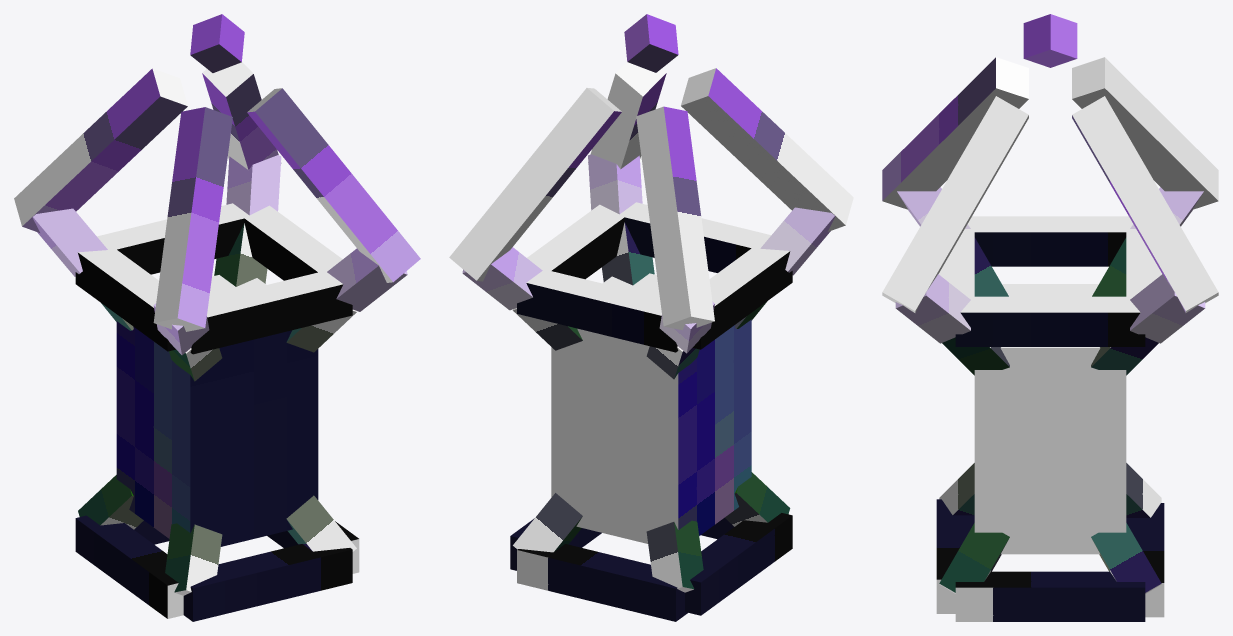
Rendered from conviction.obj.
3 renders of one model, left to right at view 1: azimuth 30°, elevation 25°; view 2: azimuth 150°, elevation 25°; view 3: azimuth 270°, elevation 25°, orthographic. The views are drawn at different scales.
Parts seen in each view (by area): view 1: center, tip4, tip2, tip3, stick3, stick2, stick8, stick6, stick5, tip1, stick1, slope6 (+11 smaller); view 2: center, tip2, tip4, tip1, stick4, stick1, stick8, stick6, stick5, tip3, stick2, slope8 (+11 smaller); view 3: center, tip3, tip1, stick7, stick5, tip4, tip2, stick6, angle1, angle3, core, slope7 (+13 smaller).
Boxes of the visible parts, x1=… form: center: x1=116, y1=275, x2=318, y2=546; tip4: x1=153, y1=107, x2=232, y2=331; tip2: x1=14, y1=68, x2=187, y2=232; tip3: x1=247, y1=88, x2=420, y2=282; stick3: x1=183, y1=544, x2=352, y2=621; stick2: x1=190, y1=272, x2=352, y2=354; stick8: x1=75, y1=515, x2=183, y2=618; stick6: x1=75, y1=247, x2=175, y2=351; stick5: x1=237, y1=205, x2=342, y2=280; tip1: x1=202, y1=62, x2=281, y2=169; stick1: x1=97, y1=203, x2=259, y2=274; slope6: x1=165, y1=523, x2=222, y2=595; center: x1=551, y1=273, x2=751, y2=543; tip2: x1=636, y1=106, x2=714, y2=330; tip4: x1=681, y1=68, x2=853, y2=231; tip1: x1=449, y1=88, x2=621, y2=281; stick4: x1=517, y1=544, x2=687, y2=621; stick1: x1=517, y1=271, x2=678, y2=352; stick8: x1=685, y1=513, x2=792, y2=615; stick6: x1=693, y1=248, x2=792, y2=349; stick5: x1=527, y1=204, x2=624, y2=279; tip3: x1=588, y1=62, x2=666, y2=169; stick2: x1=609, y1=202, x2=770, y2=272; slope8: x1=646, y1=520, x2=703, y2=592; center: x1=974, y1=284, x2=1126, y2=554; tip3: x1=882, y1=96, x2=1028, y2=312; tip1: x1=1072, y1=96, x2=1218, y2=312; stick7: x1=955, y1=571, x2=1145, y2=621; stick5: x1=955, y1=296, x2=1145, y2=346; tip4: x1=882, y1=57, x2=1028, y2=209; tip2: x1=1072, y1=57, x2=1218, y2=209; stick6: x1=968, y1=216, x2=1132, y2=266; angle1: x1=1130, y1=274, x2=1205, y2=343; angle3: x1=895, y1=274, x2=970, y2=343; core: x1=1023, y1=14, x2=1077, y2=67; slope7: x1=1091, y1=523, x2=1161, y2=593.
Bounding box in the file's own units: 0.5073 × 1.03 × 0.5541.
